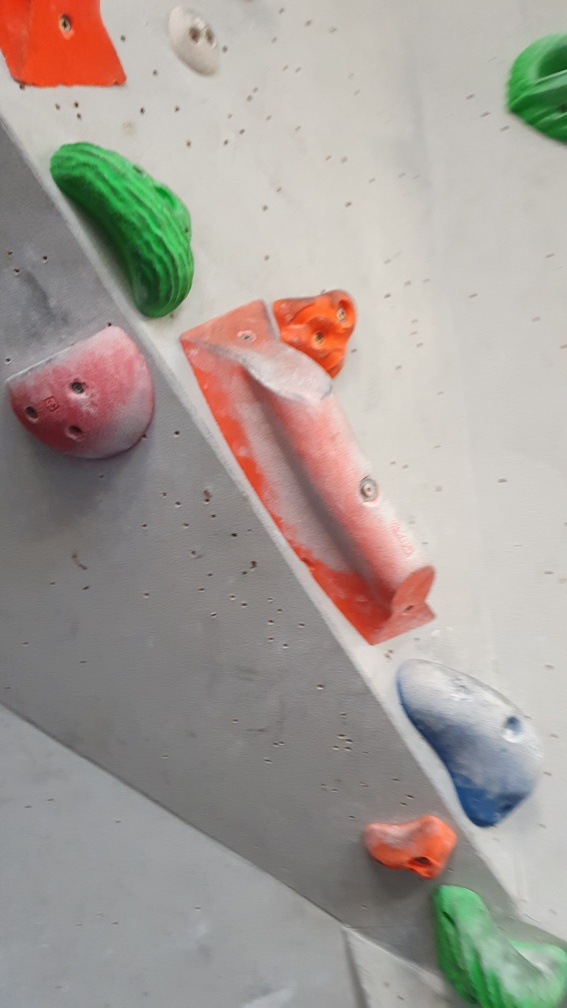Jug: (47, 134, 203, 320), (425, 877, 566, 1008)
Pinch: (180, 295, 440, 644), (392, 648, 540, 826)
Sloper: (1, 313, 160, 474)
